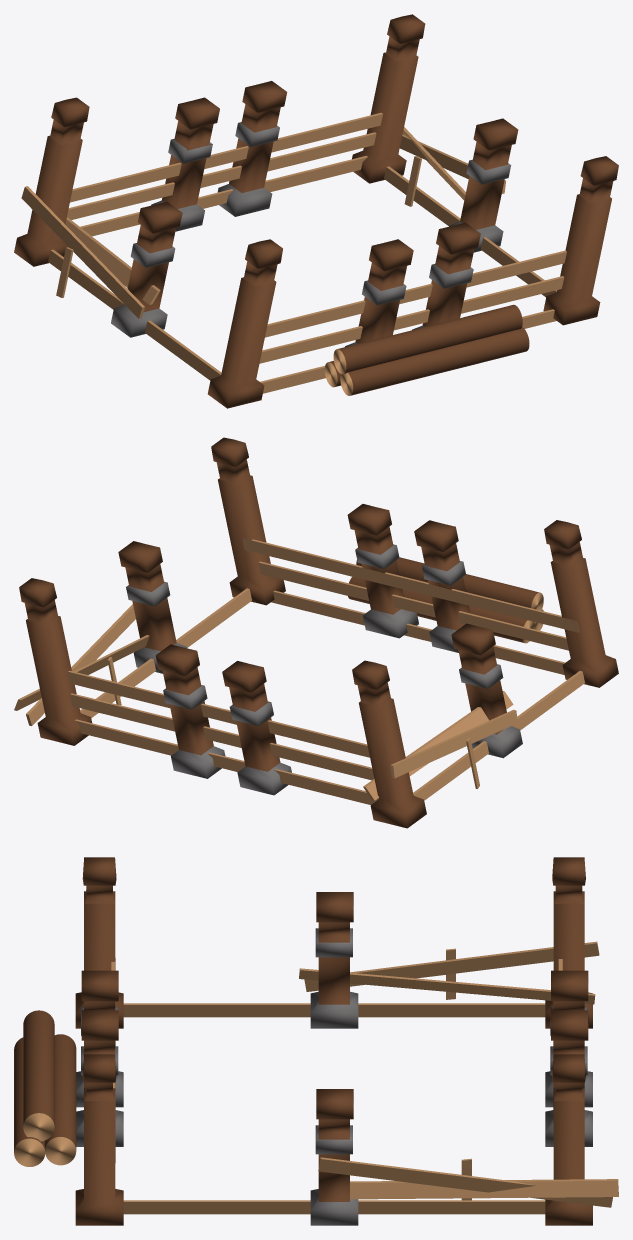
File: mongsnhaf.glb
The picture shows the model from 3 angles, top to bottom: view 1: azimuth 30°, elevation 25°; view 2: azimuth 150°, elevation 25°; view 3: azimuth 270°, elevation 25°; orthographic projection. The views are drawn at different scales.
Parts seen in each view (by area): view 1: Go1.005, Cylinder.002, Cylinder.001, Plane.005, Plane.004, Plane.006, Plane.007, Plane.002, Plane.008, Plane.001, Plane, Plane.009 (+3 smaller); view 2: Go1.005, Plane.007, Plane.006, Plane.004, Plane.005, Plane.002, Plane.003, Plane.001, Cylinder.002, Plane.008, Plane, Plane.011 (+3 smaller); view 3: Go1.005, Plane, Plane.001, Plane.012, Cylinder.002, Plane.011, Cylinder, Plane.008, Plane.009, Cylinder.001.
Part boxes in pixels (box(x1,y1,x2,y2)): Go1.005: box(14, 14, 618, 408); Cylinder.002: box(333, 304, 522, 374); Cylinder.001: box(340, 327, 529, 395); Plane.005: box(70, 112, 382, 202); Plane.004: box(67, 132, 376, 219); Plane.006: box(259, 276, 564, 363); Plane.007: box(265, 250, 566, 337); Plane.002: box(80, 155, 367, 236); Plane.008: box(21, 186, 144, 318); Plane.001: box(48, 249, 221, 380); Plane: box(384, 166, 557, 297); Plane.009: box(65, 217, 160, 304); Go1.005: box(19, 437, 618, 828); Plane.007: box(242, 538, 579, 632); Plane.006: box(258, 561, 568, 650); Plane.004: box(70, 693, 374, 780); Plane.005: box(68, 670, 369, 757); Plane.002: box(75, 719, 378, 804); Plane.003: box(271, 590, 565, 674); Plane.001: box(413, 671, 584, 800); Cylinder.002: box(356, 557, 543, 610); Plane.008: box(390, 709, 517, 778); Plane: box(80, 588, 251, 717); Plane.011: box(26, 604, 135, 725); Go1.005: box(75, 857, 592, 1225); Plane: box(123, 1200, 545, 1214); Plane.001: box(123, 1003, 545, 1017); Plane.012: box(350, 1179, 618, 1199); Cylinder.002: box(23, 1010, 54, 1141); Plane.011: box(318, 1157, 612, 1207); Cylinder: box(45, 1034, 76, 1165); Plane.008: box(304, 941, 599, 991); Plane.009: box(299, 968, 595, 1004); Cylinder.001: box(14, 1037, 45, 1166).
Size of the model in its own units: 12.21 by 4.23 by 12.89.
